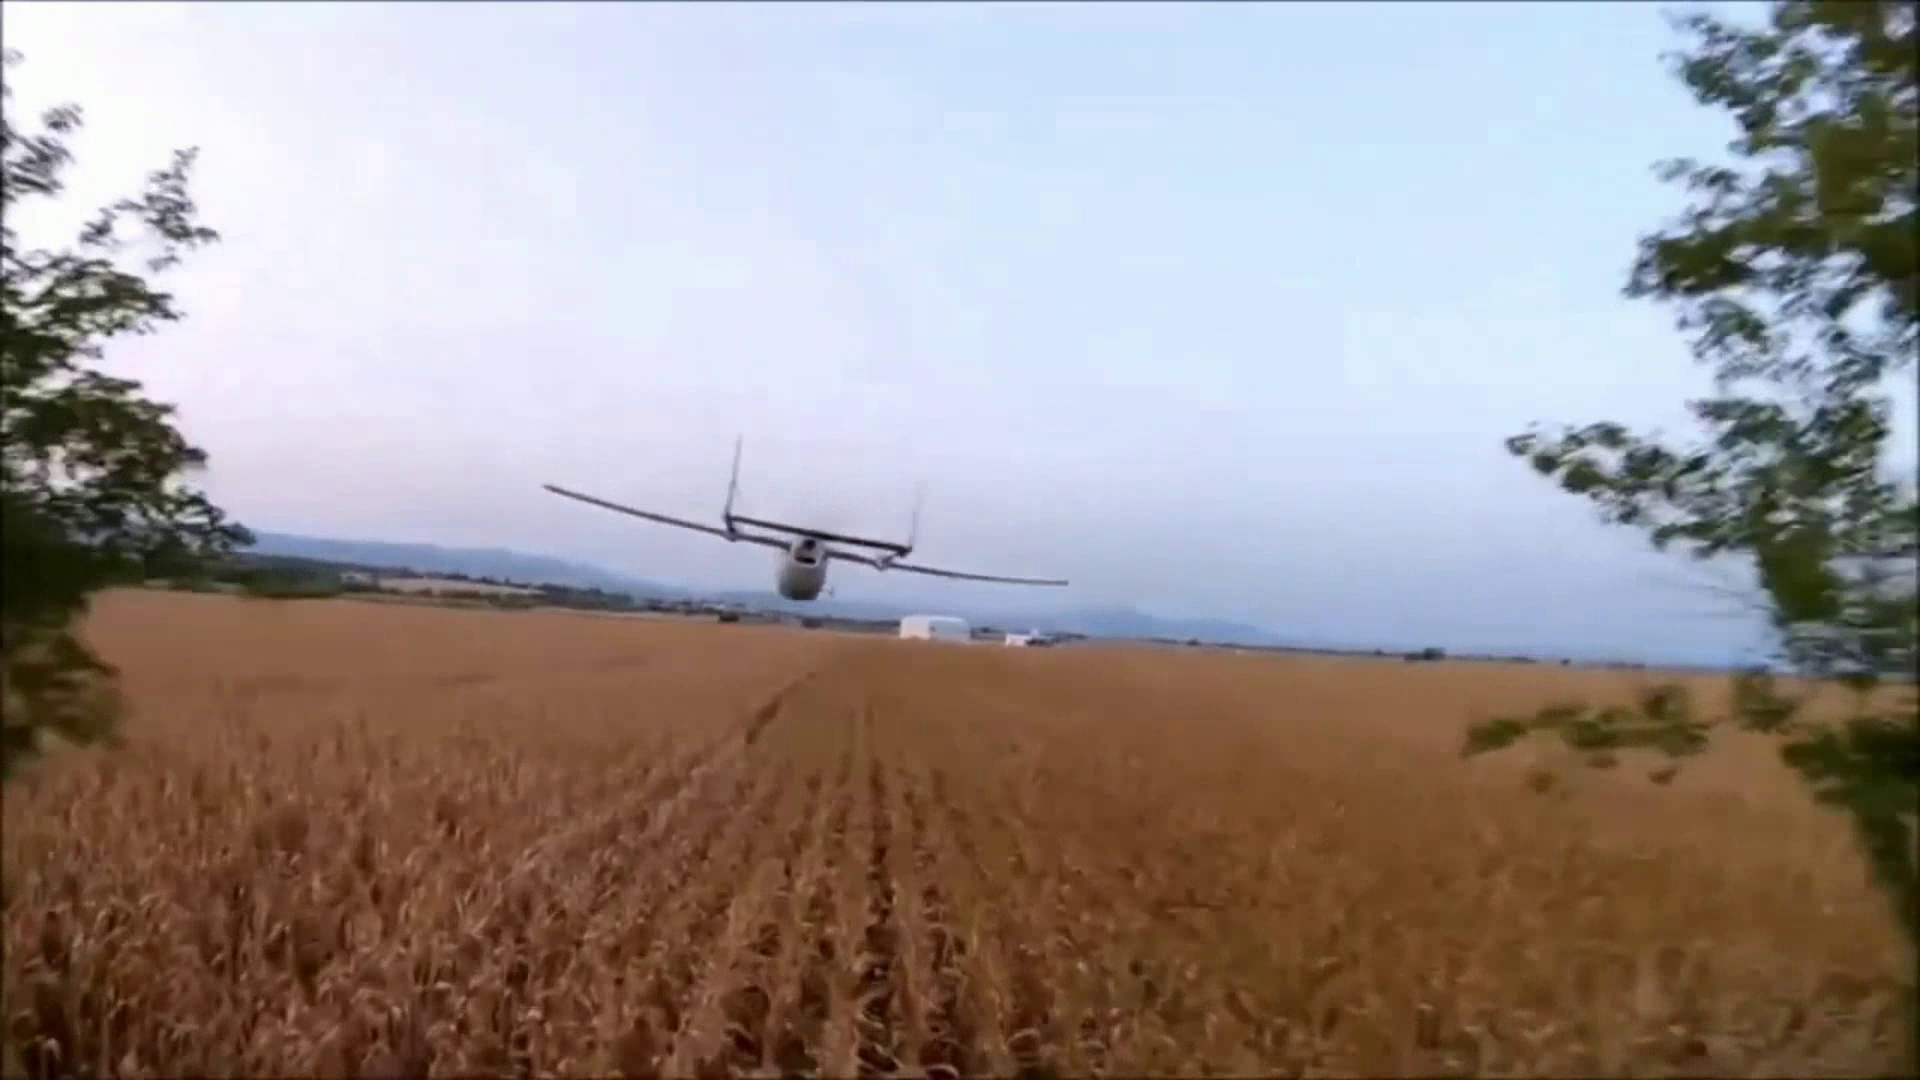airplane: (218, 438, 1072, 617), (541, 436, 1072, 609)
